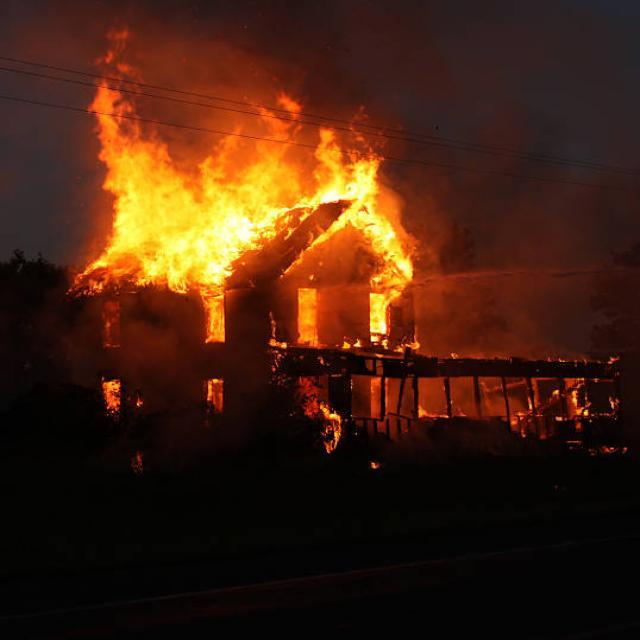Fire: (352, 80, 616, 320)
Smoke: (70, 45, 458, 332), (160, 0, 453, 168)
